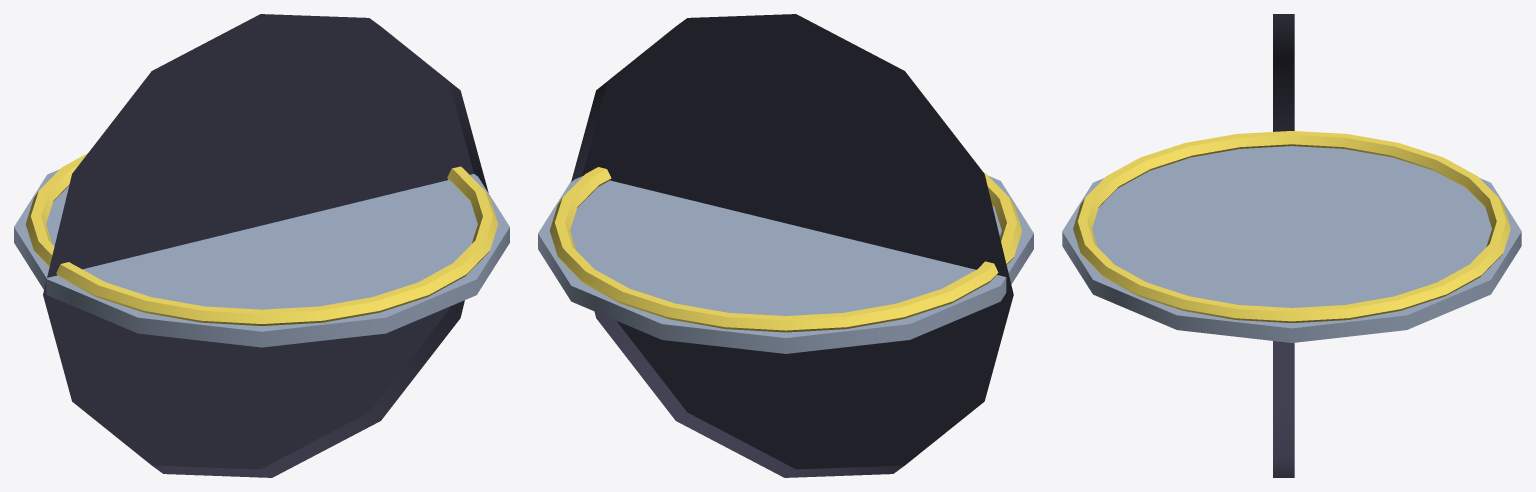
Rendered from Punto_Colocacion.fbx.
3 views of the same model, side by side, from view 1: azimuth 30°, elevation 25°; view 2: azimuth 150°, elevation 25°; view 3: azimuth 270°, elevation 25° (orthographic). The views are drawn at different scales.
Parts seen in each view (by area): view 1: Pad_Contorno, Pad, Pad_Aro; view 2: Pad_Contorno, Pad, Pad_Aro; view 3: Pad, Pad_Aro, Pad_Contorno.
Boxes of the visible parts, x1=… form: Pad_Contorno: x1=43, y1=14, x2=488, y2=477; Pad: x1=14, y1=169, x2=509, y2=347; Pad_Aro: x1=25, y1=153, x2=498, y2=325; Pad_Contorno: x1=571, y1=14, x2=1013, y2=477; Pad: x1=538, y1=176, x2=1033, y2=353; Pad_Aro: x1=549, y1=167, x2=1022, y2=332; Pad: x1=1062, y1=146, x2=1521, y2=342; Pad_Aro: x1=1073, y1=131, x2=1510, y2=322; Pad_Contorno: x1=1273, y1=14, x2=1294, y2=477.
Bounding box in the file's own units: 3.45 × 3.45 × 3.4.
